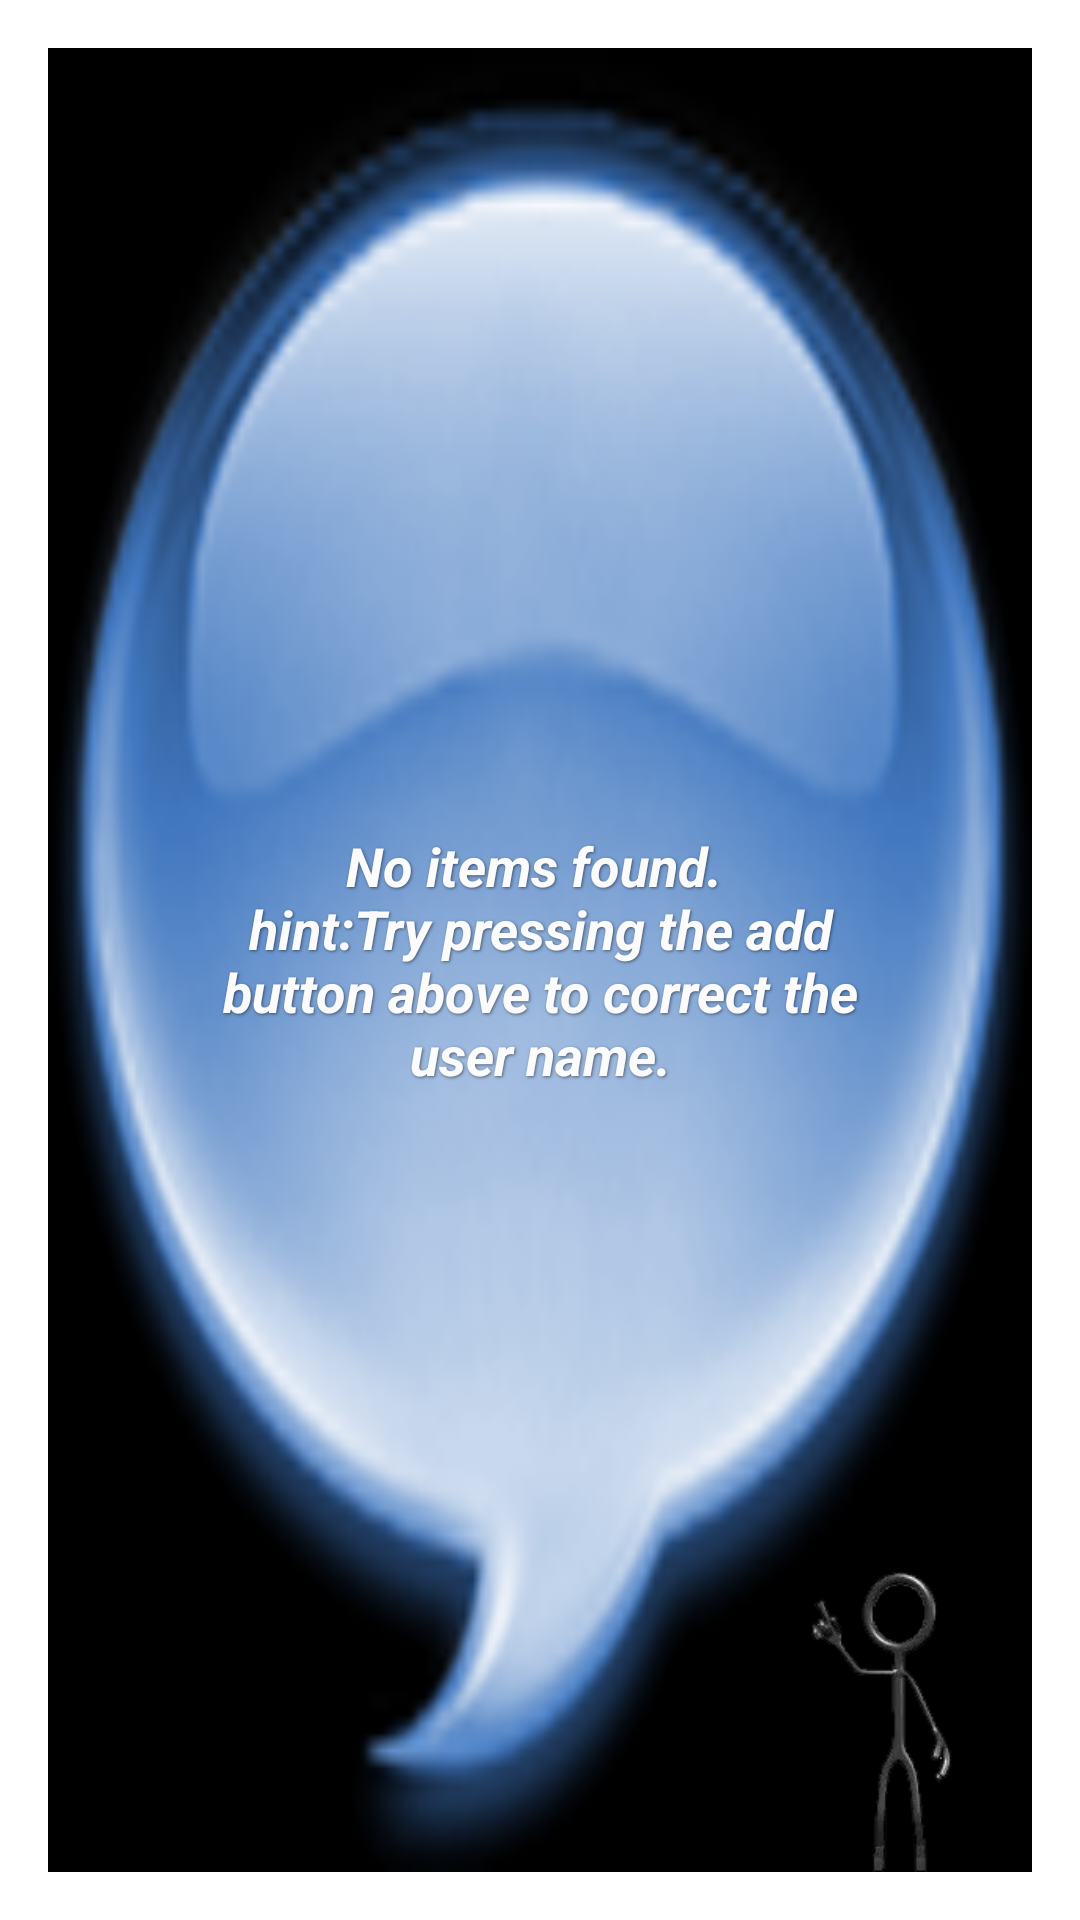

Named icons in this screenshot (1080px x 1920px) and their centers, [x,y]:
stickman pointing: [881,1722]
